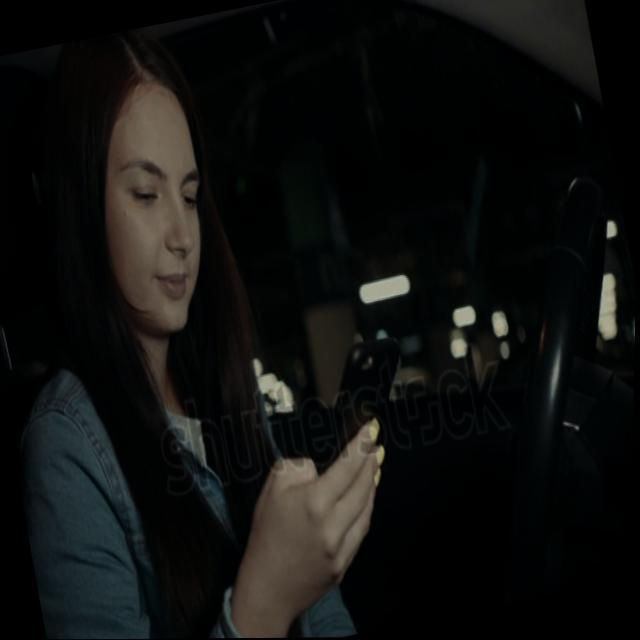PhoneCall: (304, 335, 424, 496)
